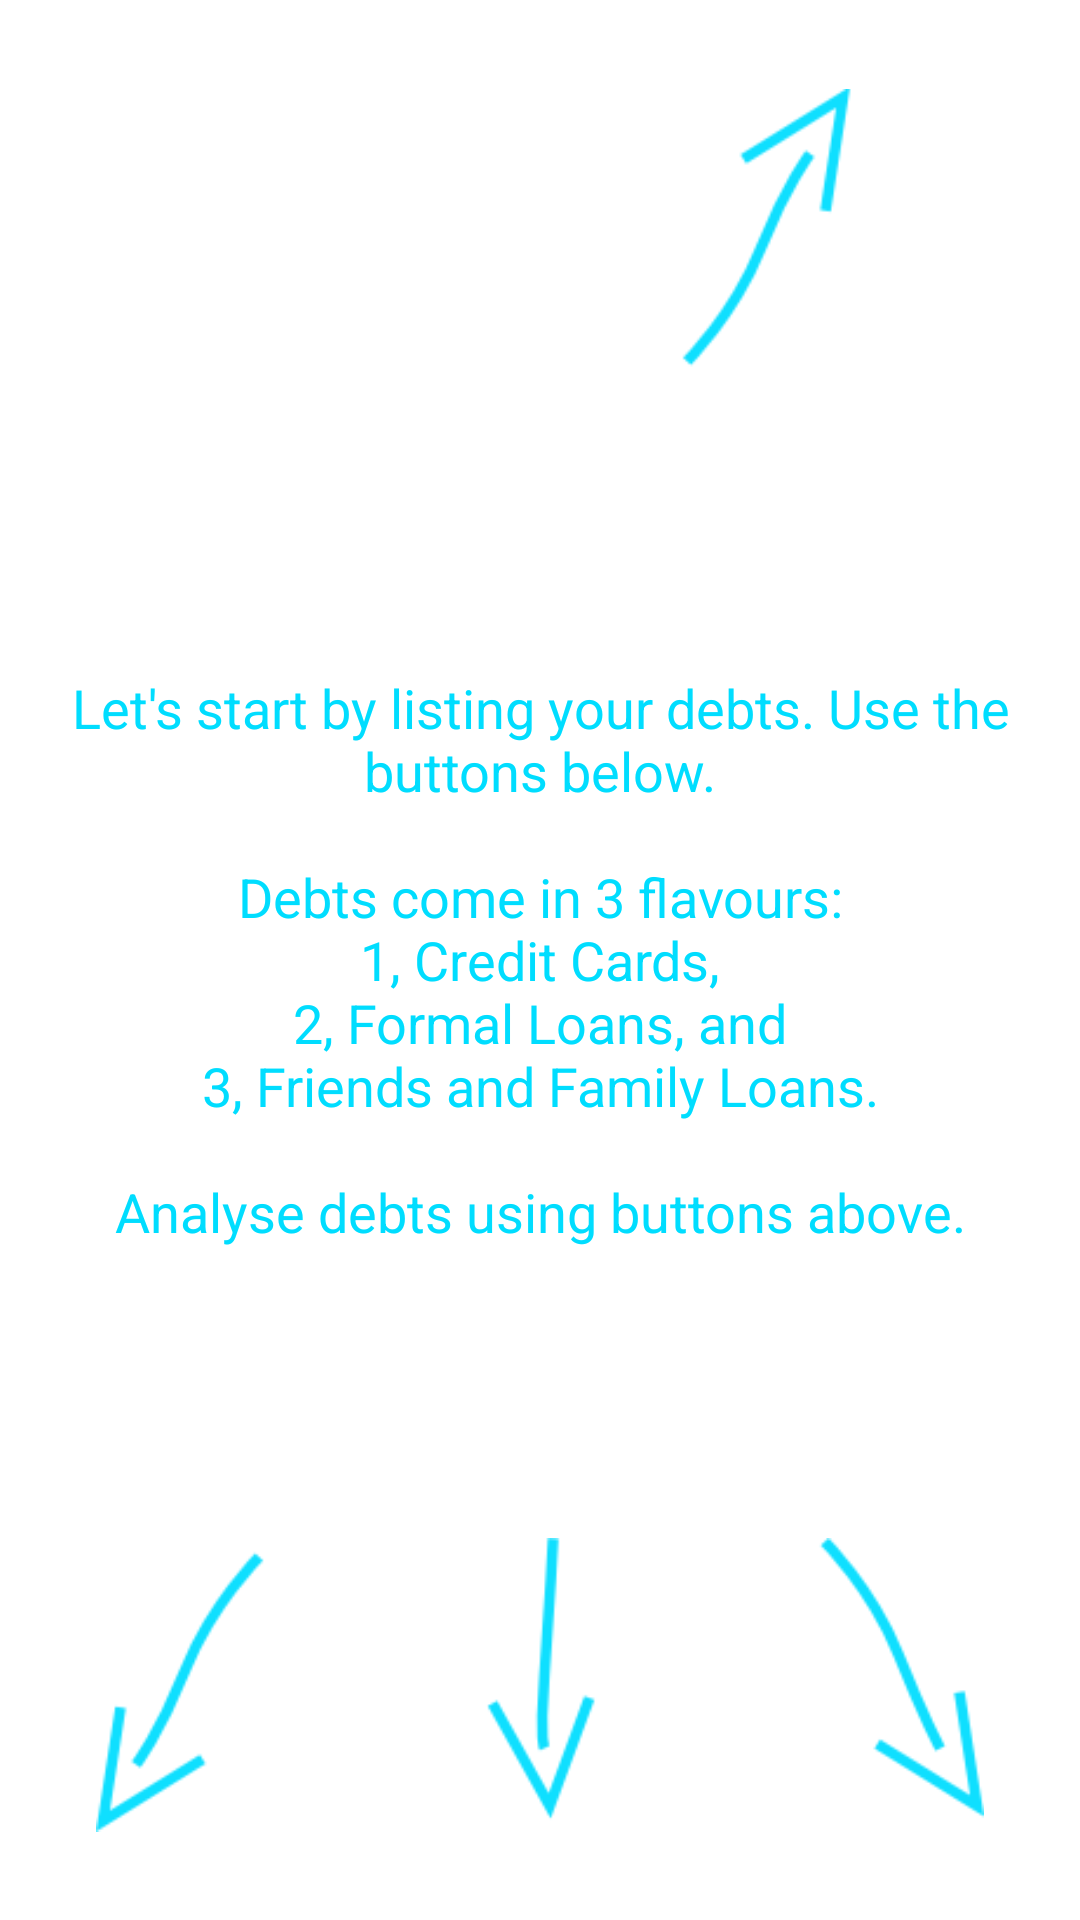

Named icons in this screenshot (1080 × 1920) and their centers, [x,y]:
arrows up: [766,227]
